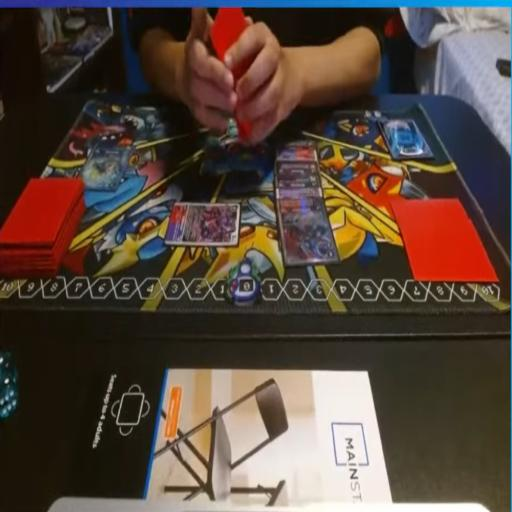card: (277, 197, 336, 274), (160, 204, 238, 248), (75, 141, 133, 190), (273, 176, 322, 194), (270, 148, 319, 166), (276, 185, 324, 202), (276, 162, 319, 178), (274, 142, 320, 148)
